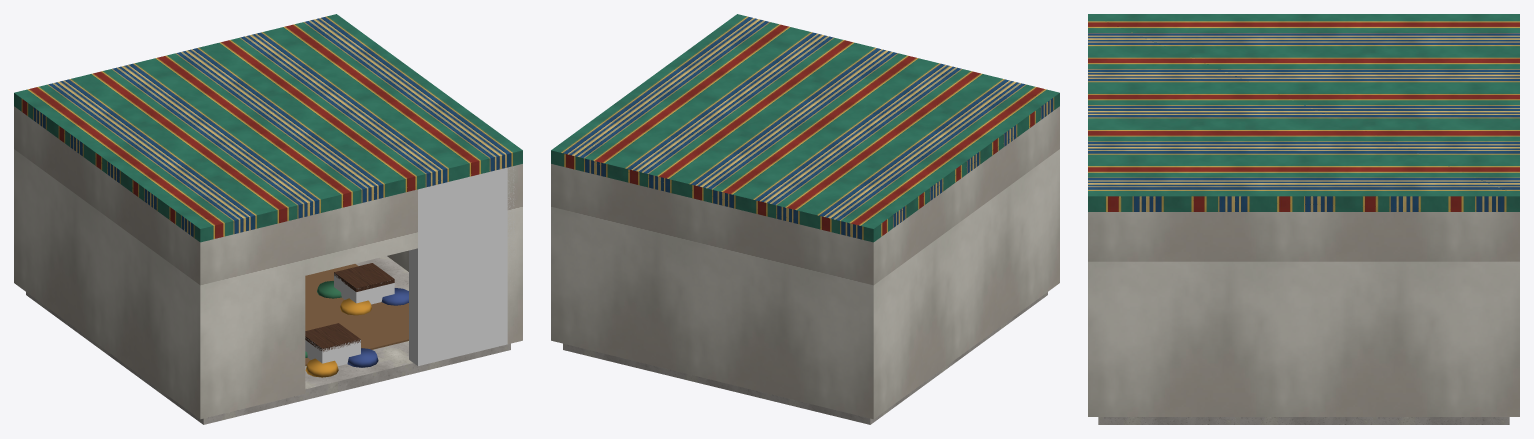
File: qingshi_teahouse.glb
3 views of the same model, side by side, from view 1: azimuth 30°, elevation 25°; view 2: azimuth 150°, elevation 25°; view 3: azimuth 270°, elevation 25° (orthographic). The views are drawn at different scales.
Visible parts, largest first — view 1: Ceiling, Walls, ShellFront-convcolonly.001, Floor, Rug, Table.001, Table.002, TableCol-convcolonly.002, TableCol-convcolonly.001, Cushion.010; view 2: Walls, Ceiling, Floor; view 3: Walls, Ceiling, Floor.
Boxes of the visible parts, left/top/right/bottom form: Ceiling: left=14, top=14, right=522, bottom=242; Walls: left=14, top=106, right=522, bottom=419; ShellFront-convcolonly.001: left=409, top=167, right=515, bottom=365; Floor: left=26, top=256, right=510, bottom=424; Rug: left=305, top=264, right=408, bottom=365; Table.001: left=334, top=263, right=394, bottom=291; Table.002: left=305, top=323, right=360, bottom=351; TableCol-convcolonly.002: left=305, top=337, right=360, bottom=366; TableCol-convcolonly.001: left=334, top=273, right=394, bottom=304; Cushion.010: left=305, top=358, right=338, bottom=377; Walls: left=551, top=106, right=1059, bottom=419; Ceiling: left=551, top=14, right=1059, bottom=242; Floor: left=563, top=292, right=1047, bottom=424; Walls: left=1088, top=212, right=1519, bottom=416; Ceiling: left=1088, top=14, right=1519, bottom=211; Floor: left=1098, top=417, right=1509, bottom=424.
Size of what is drawn, in the model's own units: 6.3 by 3.75 by 6.3.
12 materials, 7 textured.
